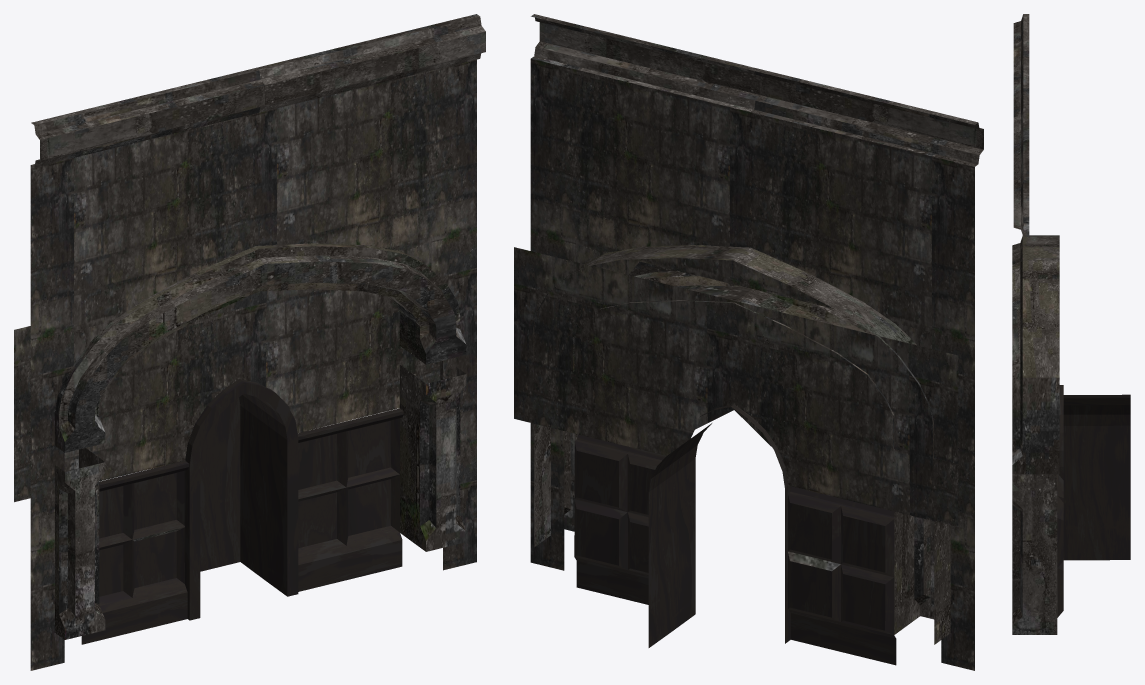
Rendered from door_wall.obj.
3 views of the same model, side by side, from view 1: azimuth 30°, elevation 25°; view 2: azimuth 150°, elevation 25°; view 3: azimuth 270°, elevation 25° (orthographic). The views are drawn at different scales.
Visible parts, largest first — view 1: [Imported]_door_wall_door_wall; view 2: [Imported]_door_wall_door_wall; view 3: [Imported]_door_wall_door_wall.
Part boxes in pixels (bbox=[...]): [Imported]_door_wall_door_wall: bbox=[14, 14, 485, 670]; [Imported]_door_wall_door_wall: bbox=[514, 14, 983, 670]; [Imported]_door_wall_door_wall: bbox=[1012, 14, 1130, 634].
Size of the model in its own units: 10.9 by 12.8 by 2.91.
